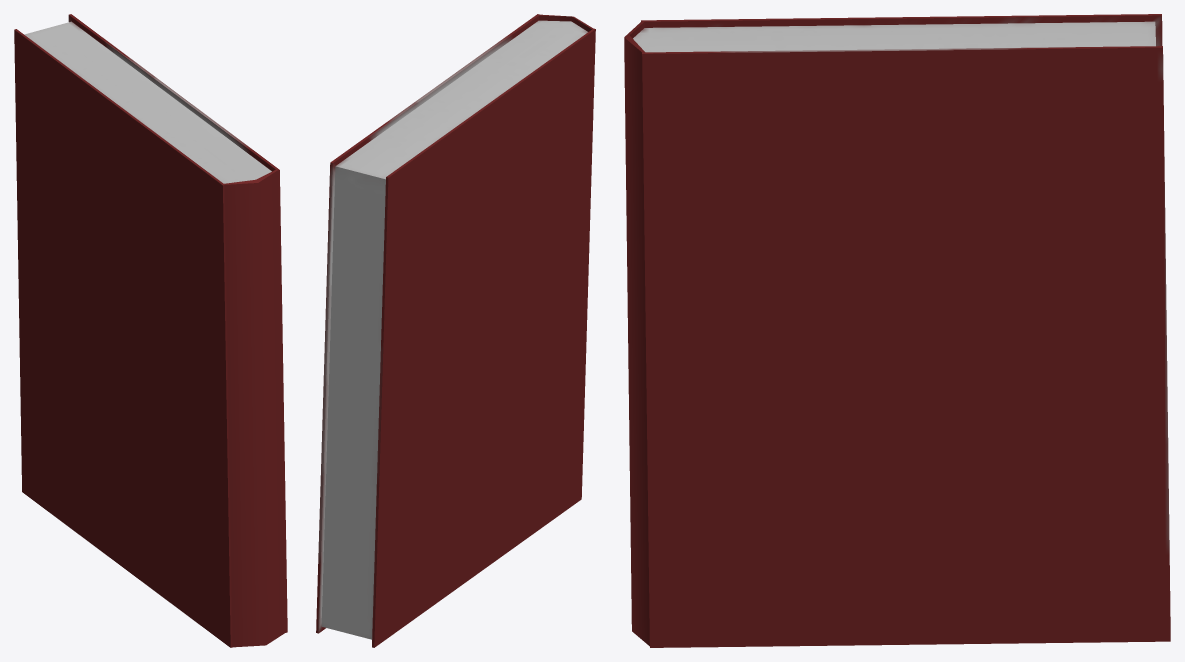
The model's file is BookDarkRed.fbx.
3 renders of one model, left to right at view 1: azimuth 30°, elevation 25°; view 2: azimuth 150°, elevation 25°; view 3: azimuth 270°, elevation 25°, orthographic. The views are drawn at different scales.
Visible parts, largest first — view 1: BookDarkRedOBJ; view 2: BookDarkRedOBJ; view 3: BookDarkRedOBJ.
Part boxes in pixels (x1,y1,x2,y2): BookDarkRedOBJ: [14, 14, 287, 647]; BookDarkRedOBJ: [316, 14, 595, 647]; BookDarkRedOBJ: [624, 14, 1170, 647].
Bounding box in the file's own units: 5.75 × 37.34 × 31.12.
Materials: 1 (1 with a texture image).
